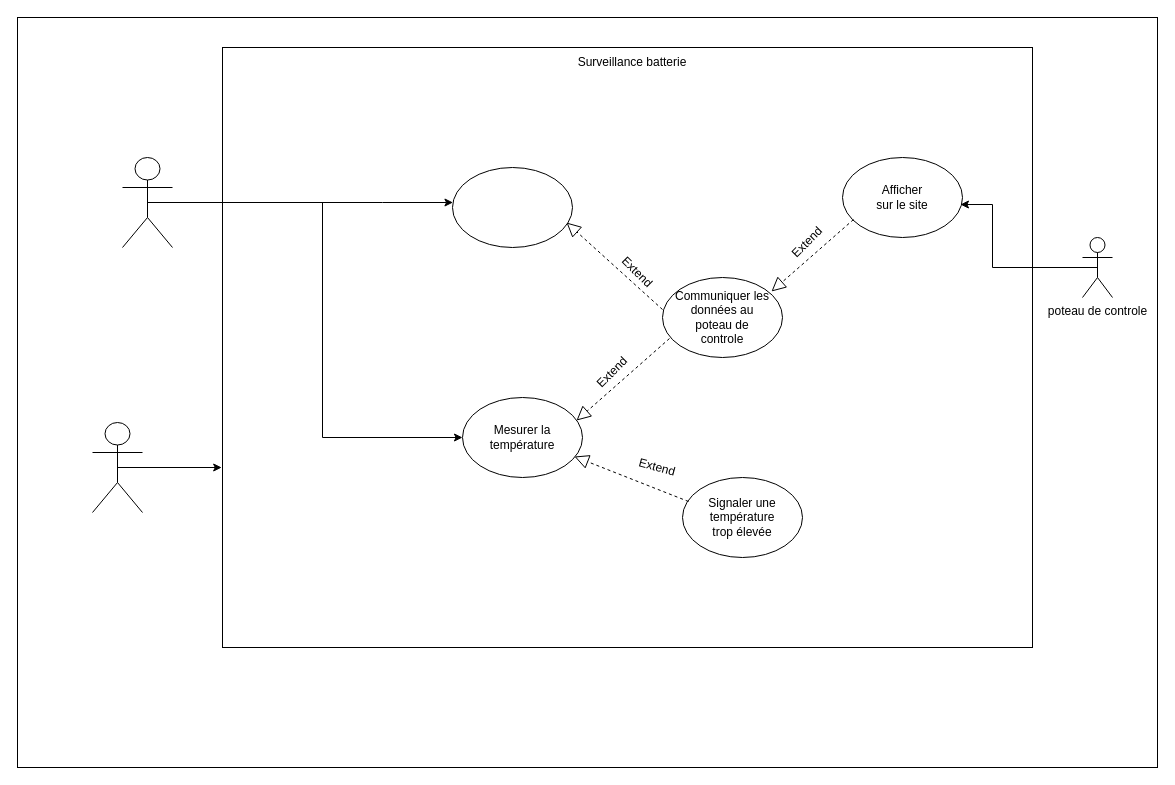
Some shapes in this 1175 by 785 pixel diagram are drawn without their labels. The centre of each missing label's shape, as x and y in pixels:
Kart: the point at 117,467
Mesurer le niveau de batterie: the point at 512,207
Pilote: the point at 147,202
